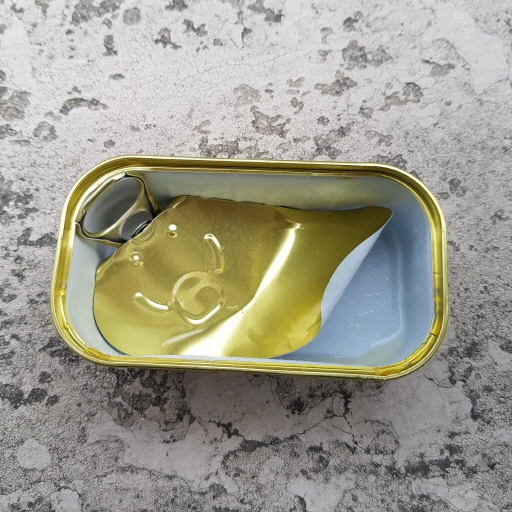Metal_2: (50, 148, 452, 388)
